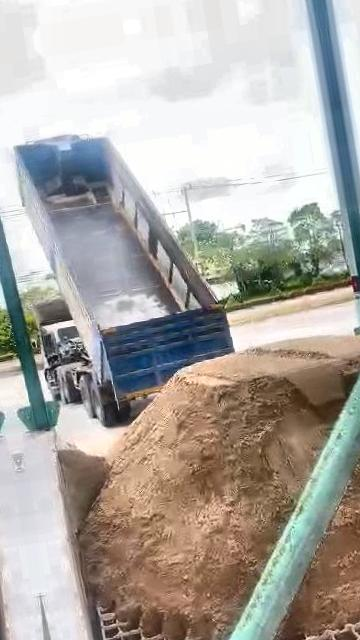sand: (80, 337, 360, 640), (285, 422, 360, 638), (58, 444, 109, 535)
